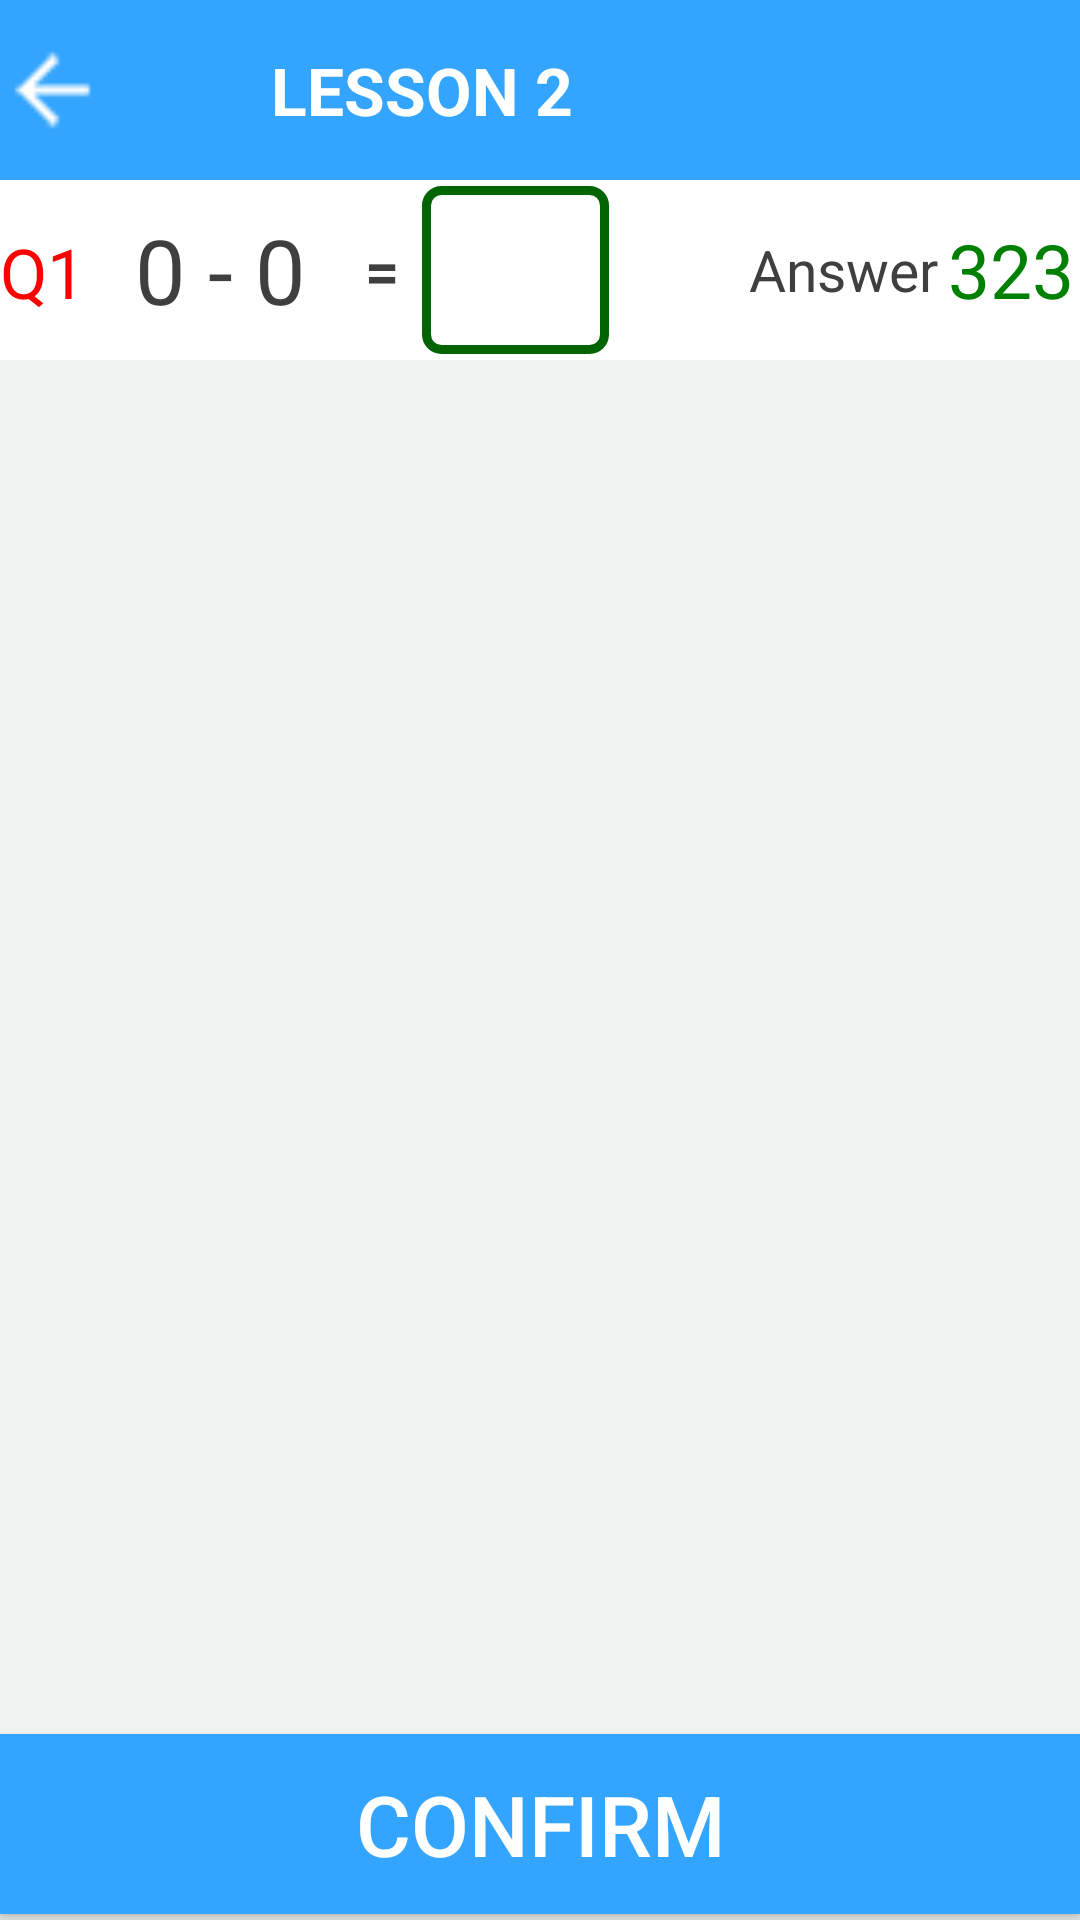

Where to tap for icons on this 1080×1920 app screen, as [x,y]:
keyboard backspace: [53,90]
